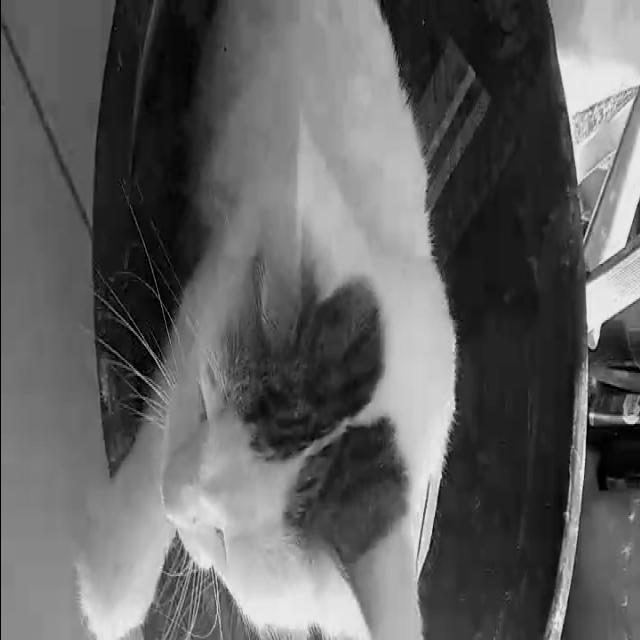Simba: (120, 29, 474, 638)
